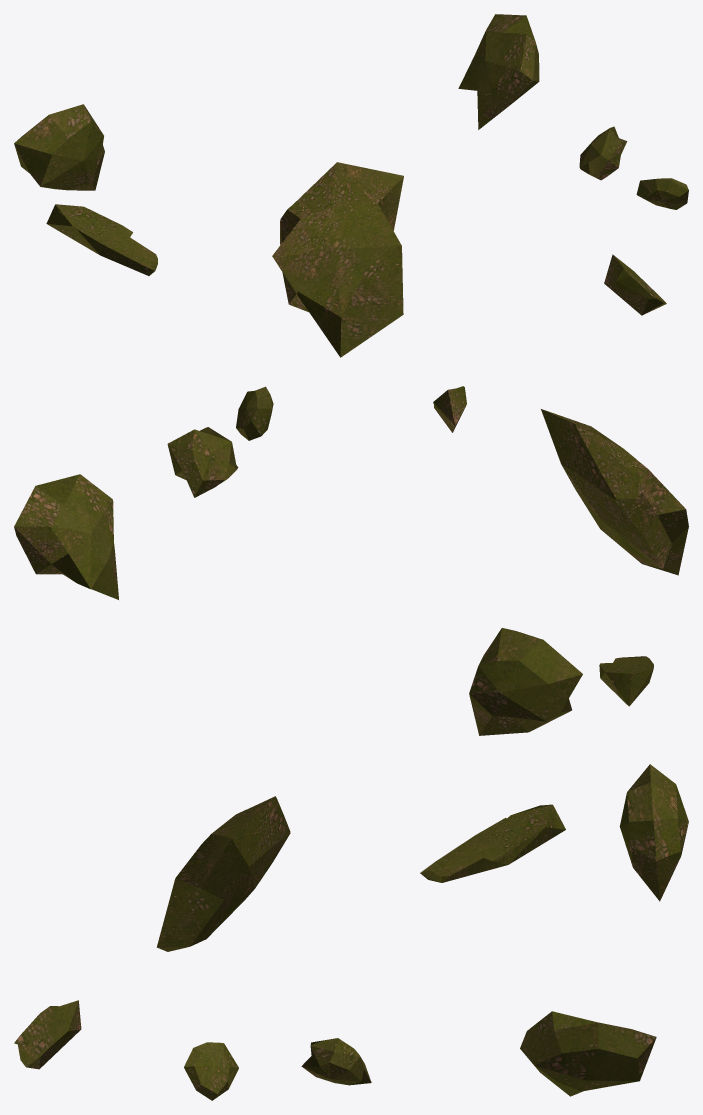
The model's file is scree_2.glb.
3 renders of one model, top to bottom at view 1: azimuth 30°, elevation 25°; view 2: azimuth 150°, elevation 25°; view 3: azimuth 270°, elevation 25°, orthographic. The views are drawn at different scales.
Visible parts, largest first — view 1: scree; view 2: scree; view 3: scree.
Part boxes in pixels (left/top/right/bottom): scree: left=14, top=14, right=688, bottom=357; scree: left=14, top=386, right=688, bottom=735; scree: left=14, top=764, right=688, bottom=1100.
Size of the model in its own units: 2.19 by 0.6401 by 2.17.
Materials: 1 (1 with a texture image).
